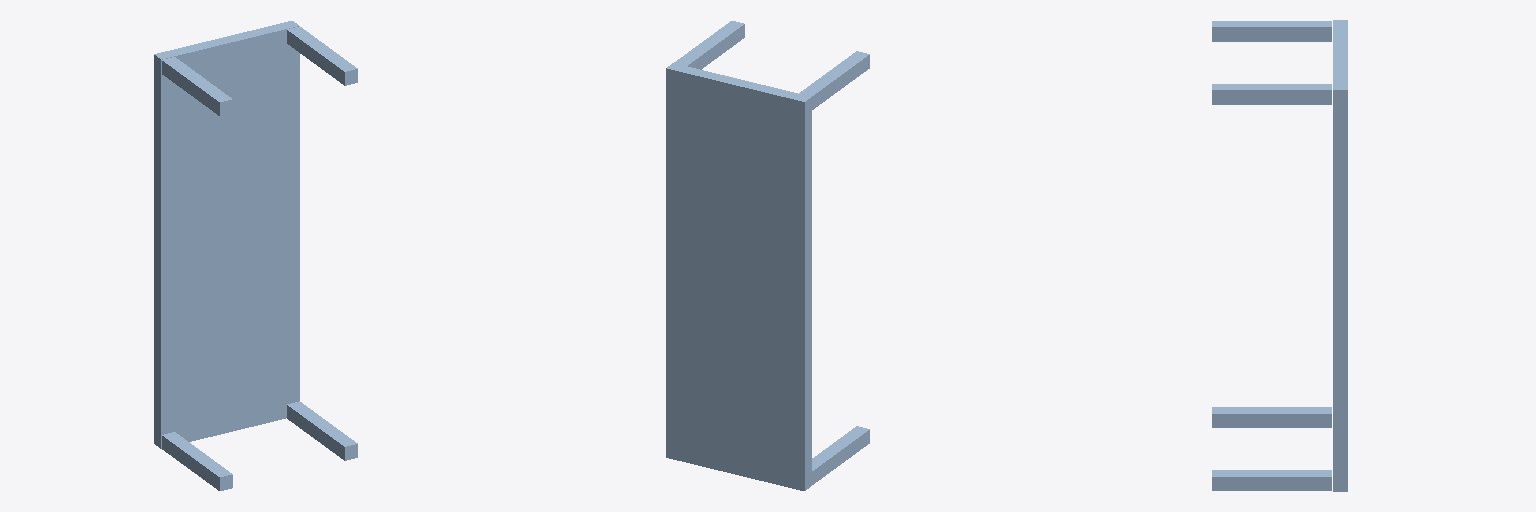
robot.urdf — widetable_plan5_pull_training:
<?xml version="1.0" ?>
<robot name="widetable_plan5_pull_training">
  <material name="widetable_pull_material">
    <color rgba="0.7 0.8 0.9 0.7"/>
  </material>
  <link name="widetable_pull_link">
    <!--
      Formal Plan 5 Pull asset. This is the local-X/local-Z counterpart of
      objects_widetable_plan5_training.urdf: the 1.4 m span and corresponding
      leg offsets lie along local Z so two robots can pull from opposite
      lateral sides of the demonstrated Pull motion. Mass, COM, material, and
      total rotational inertia are preserved while Ixx and Izz are exchanged.
    -->
    <inertial>
      <mass value="5.0"/>
      <origin rpy="0 0 0" xyz="0 0.015111745244133 0"/>
      <inertia
        ixx="0.98762228606157"
        ixy="0.0"
        ixz="0.0"
        iyy="1.09010379801642"
        iyz="0.0"
        izz="0.156937438041755"
      />
    </inertial>

    <visual name="widetable_pull_tabletop">
      <origin rpy="0 0 0" xyz="0 0.036275 0"/>
      <geometry>
        <box size="0.5219528 0.04745 1.4"/>
      </geometry>
      <material name="widetable_pull_material"/>
    </visual>
    <collision name="widetable_pull_tabletop">
      <origin rpy="0 0 0" xyz="0 0.036275 0"/>
      <geometry>
        <box size="0.5219528 0.04745 1.4"/>
      </geometry>
    </collision>

    <visual name="widetable_pull_leg_neg_x_neg_z">
      <origin rpy="0 0 0" xyz="-0.23525 -0.17835 -0.6742736"/>
      <geometry>
        <box size="0.05 0.3793 0.05"/>
      </geometry>
      <material name="widetable_pull_material"/>
    </visual>
    <collision name="widetable_pull_leg_neg_x_neg_z">
      <origin rpy="0 0 0" xyz="-0.23525 -0.17835 -0.6742736"/>
      <geometry>
        <box size="0.05 0.3793 0.05"/>
      </geometry>
    </collision>

    <visual name="widetable_pull_leg_neg_x_pos_z">
      <origin rpy="0 0 0" xyz="-0.23525 -0.17835 0.6742736"/>
      <geometry>
        <box size="0.05 0.3793 0.05"/>
      </geometry>
      <material name="widetable_pull_material"/>
    </visual>
    <collision name="widetable_pull_leg_neg_x_pos_z">
      <origin rpy="0 0 0" xyz="-0.23525 -0.17835 0.6742736"/>
      <geometry>
        <box size="0.05 0.3793 0.05"/>
      </geometry>
    </collision>

    <visual name="widetable_pull_leg_pos_x_neg_z">
      <origin rpy="0 0 0" xyz="0.23525 -0.17835 -0.6742736"/>
      <geometry>
        <box size="0.05 0.3793 0.05"/>
      </geometry>
      <material name="widetable_pull_material"/>
    </visual>
    <collision name="widetable_pull_leg_pos_x_neg_z">
      <origin rpy="0 0 0" xyz="0.23525 -0.17835 -0.6742736"/>
      <geometry>
        <box size="0.05 0.3793 0.05"/>
      </geometry>
    </collision>

    <visual name="widetable_pull_leg_pos_x_pos_z">
      <origin rpy="0 0 0" xyz="0.23525 -0.17835 0.6742736"/>
      <geometry>
        <box size="0.05 0.3793 0.05"/>
      </geometry>
      <material name="widetable_pull_material"/>
    </visual>
    <collision name="widetable_pull_leg_pos_x_pos_z">
      <origin rpy="0 0 0" xyz="0.23525 -0.17835 0.6742736"/>
      <geometry>
        <box size="0.05 0.3793 0.05"/>
      </geometry>
    </collision>
  </link>
</robot>

--- Facts derived from the render (not from the file) ---
The picture shows the robot from 3 angles, left to right: view 1: azimuth 30°, elevation 25°; view 2: azimuth 150°, elevation 25°; view 3: azimuth 270°, elevation 25°; orthographic projection.
Model widetable_plan5_pull_training with 1 links and 0 joints (none), rooted at widetable_pull_link, posed all joints at 0.
Links seen in each view (by area): view 1: widetable_pull_link; view 2: widetable_pull_link; view 3: widetable_pull_link.
Boxes of the visible links, left/top/right/bottom form: widetable_pull_link: left=154, top=21, right=357, bottom=490; widetable_pull_link: left=666, top=21, right=869, bottom=490; widetable_pull_link: left=1212, top=20, right=1347, bottom=491.
Size in the robot's own frame: 0.522 by 0.428 by 1.4 metres.
Geometry: primitives only (box / cylinder / sphere), no mesh files.
